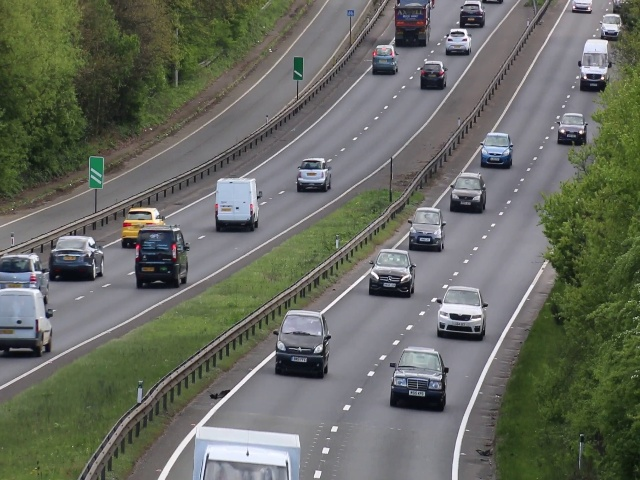car: (186, 426, 310, 480), (270, 309, 332, 379), (387, 346, 450, 412), (134, 228, 192, 288), (1, 289, 55, 350), (46, 234, 107, 281), (214, 174, 259, 233), (438, 284, 485, 340), (369, 247, 415, 298), (121, 207, 166, 249), (1, 255, 48, 295), (448, 172, 489, 213), (409, 203, 444, 251), (393, 1, 428, 46), (580, 37, 609, 91), (481, 129, 512, 171), (296, 156, 330, 194), (559, 110, 586, 147), (373, 41, 399, 79), (444, 26, 472, 56), (460, 1, 486, 26)
